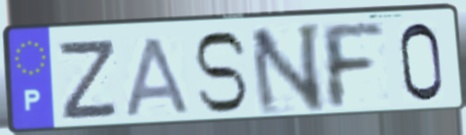0: (397, 19, 445, 104)
A: (122, 33, 193, 118)
F: (316, 21, 388, 112)
N: (247, 20, 327, 118)
S: (190, 29, 250, 116)
Z: (58, 36, 121, 122)
